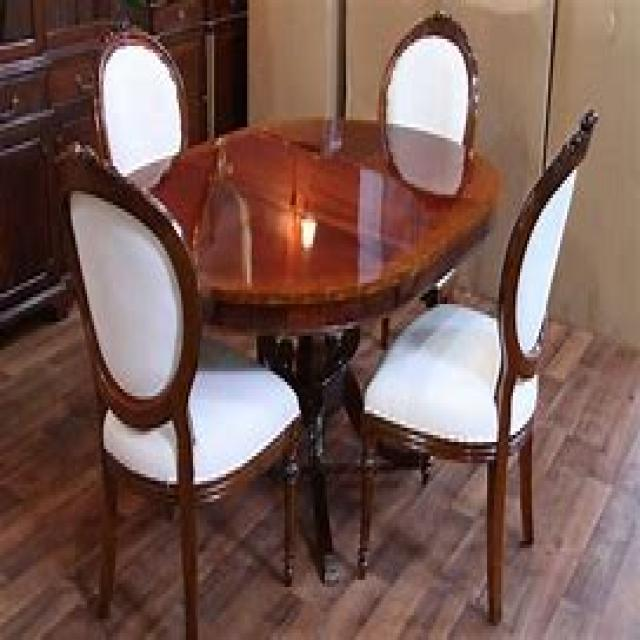chair: (346, 106, 598, 622), (54, 138, 301, 636), (92, 25, 188, 191)
table: (143, 110, 499, 580)
